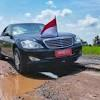Pothole: (0, 64, 100, 100)
